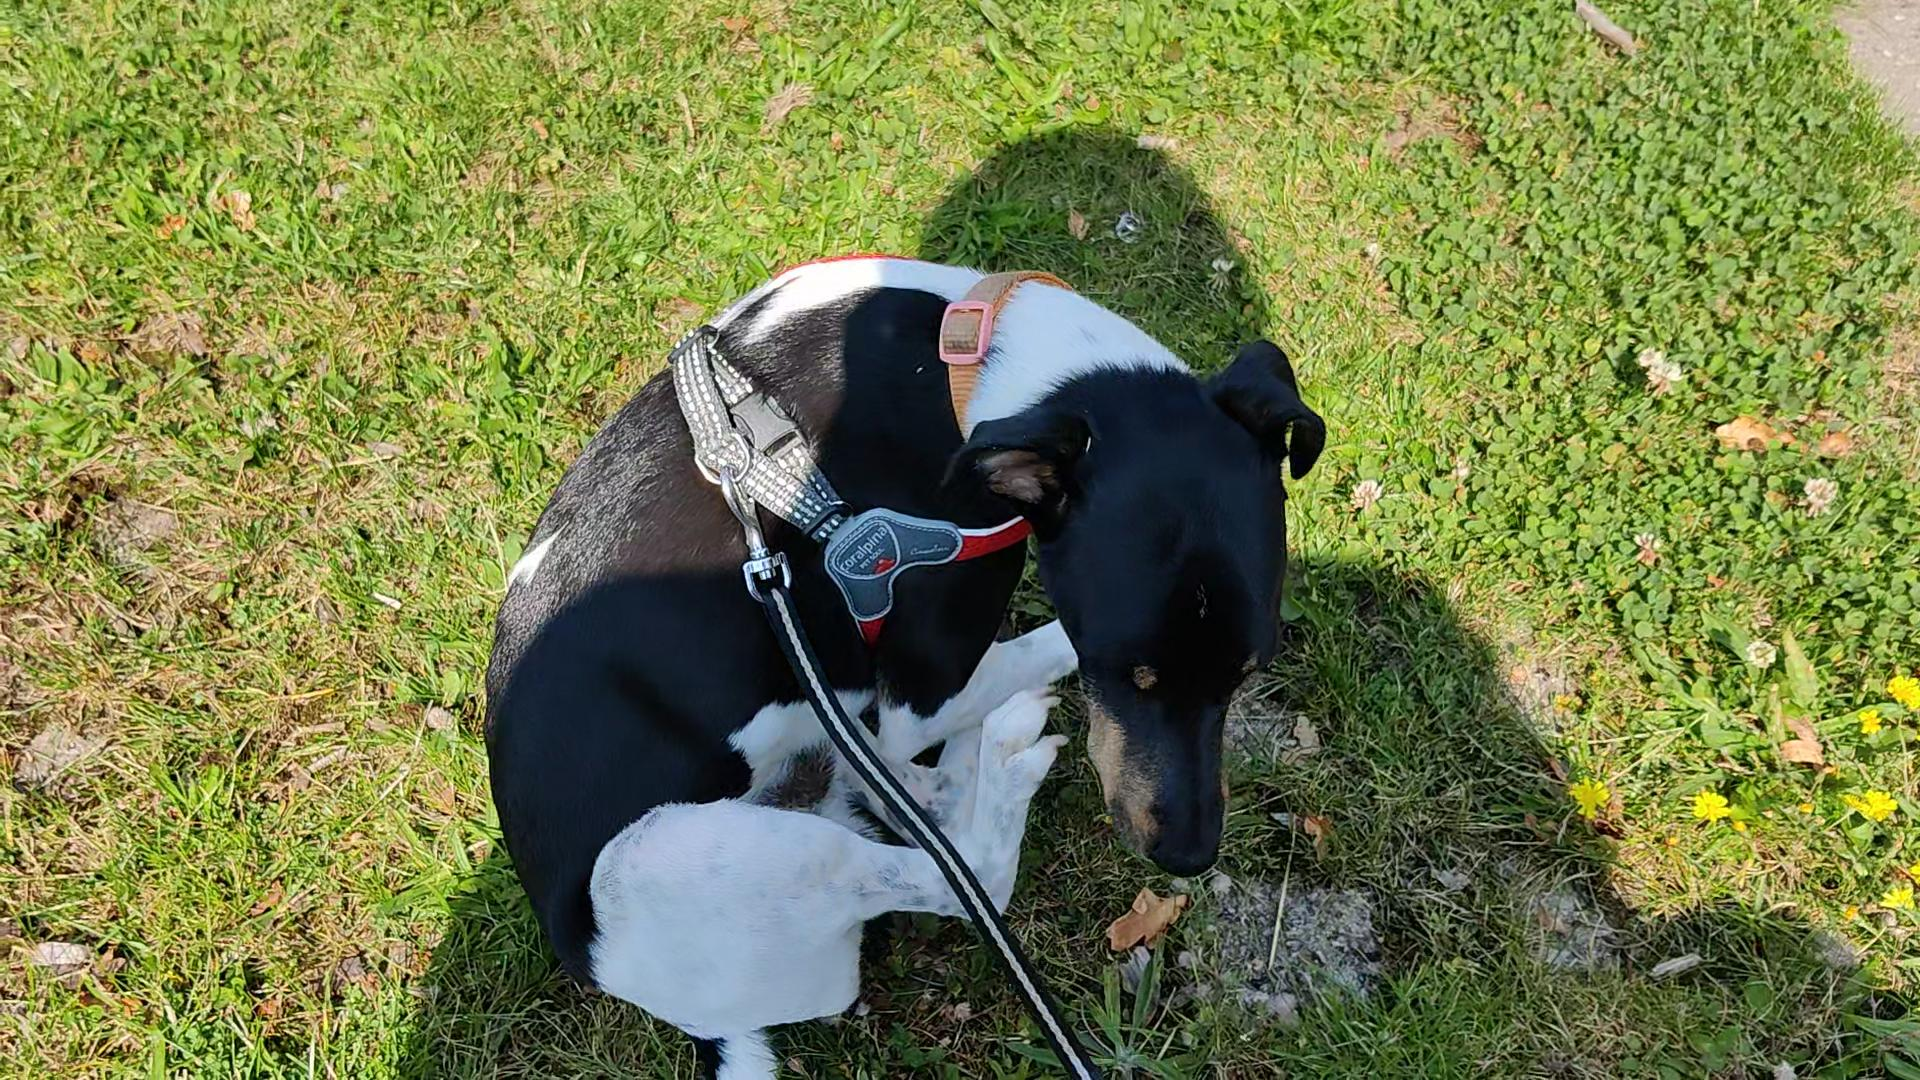Dog: (440, 219, 1364, 1079)
